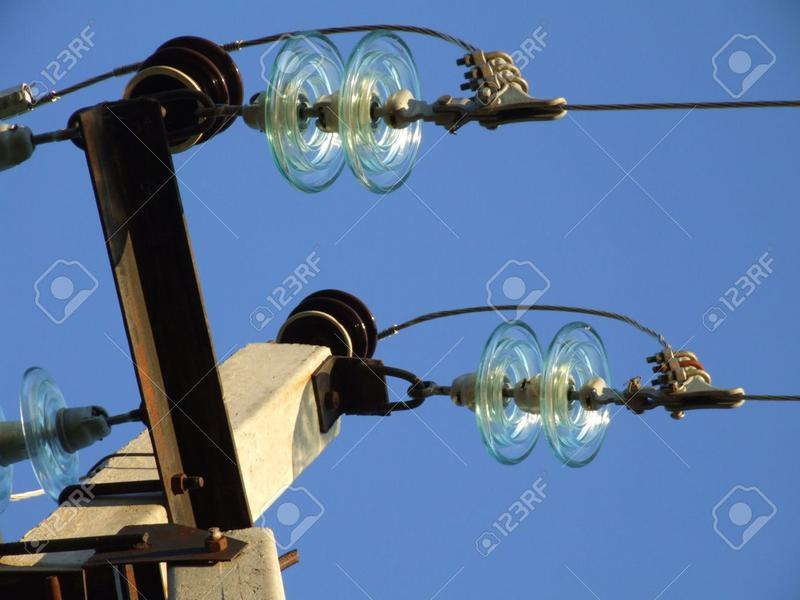isolator: (264, 30, 424, 196), (477, 319, 611, 470), (1, 366, 81, 514)
